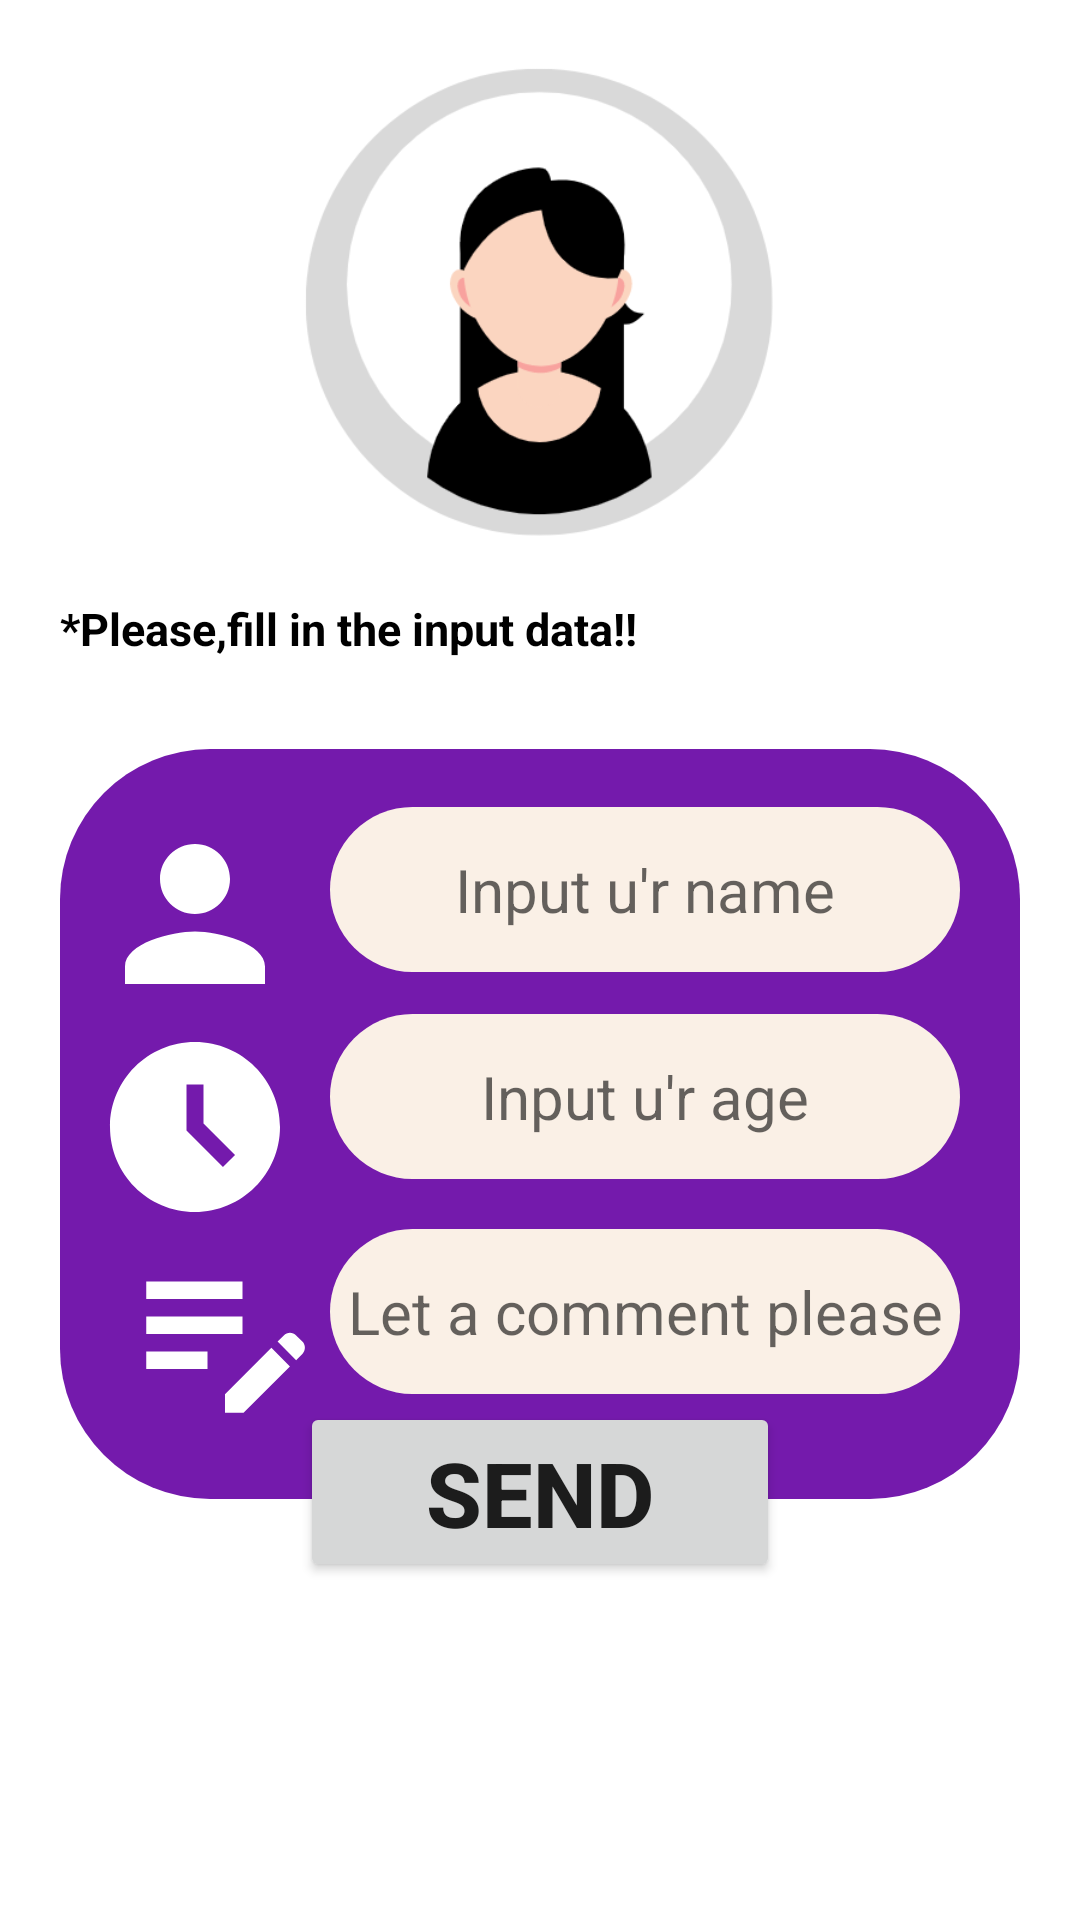

Locate icon controls on the screen. Image size 1080 x 1920, boxes as (x1, y1, x2, y2).
access time: (110, 1042, 280, 1212)
edit note: (146, 1281, 305, 1413)
person: (125, 844, 265, 984)
